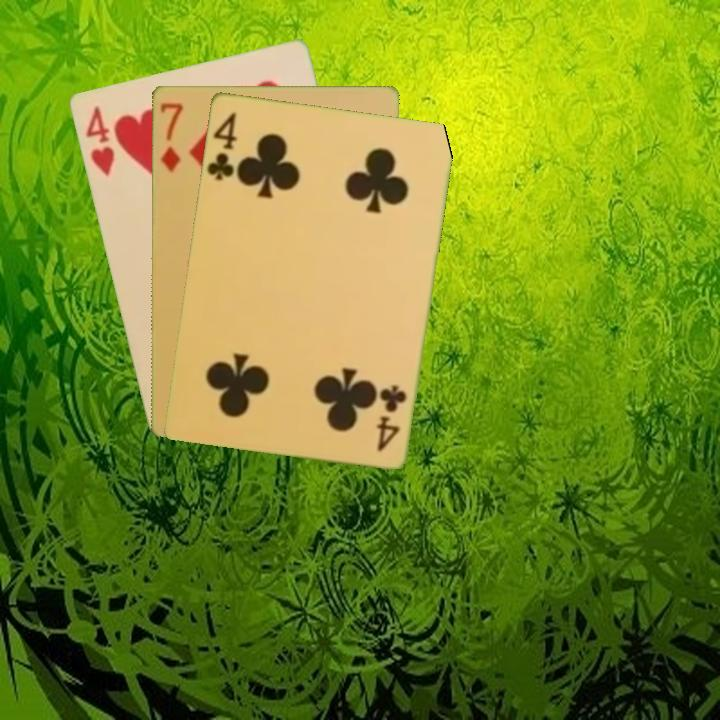4c: (203, 108, 240, 183), (373, 380, 409, 454)
4h: (81, 102, 117, 179)
7d: (156, 99, 186, 174)
